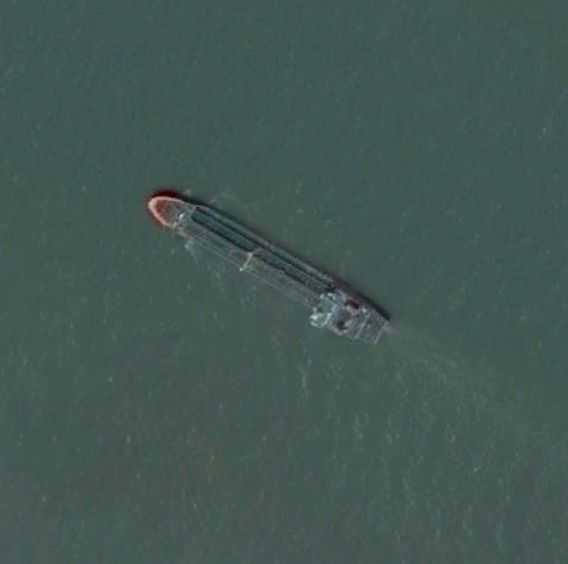boat: (146, 192, 391, 348)
